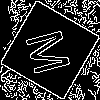M: (25, 25, 80, 77)
